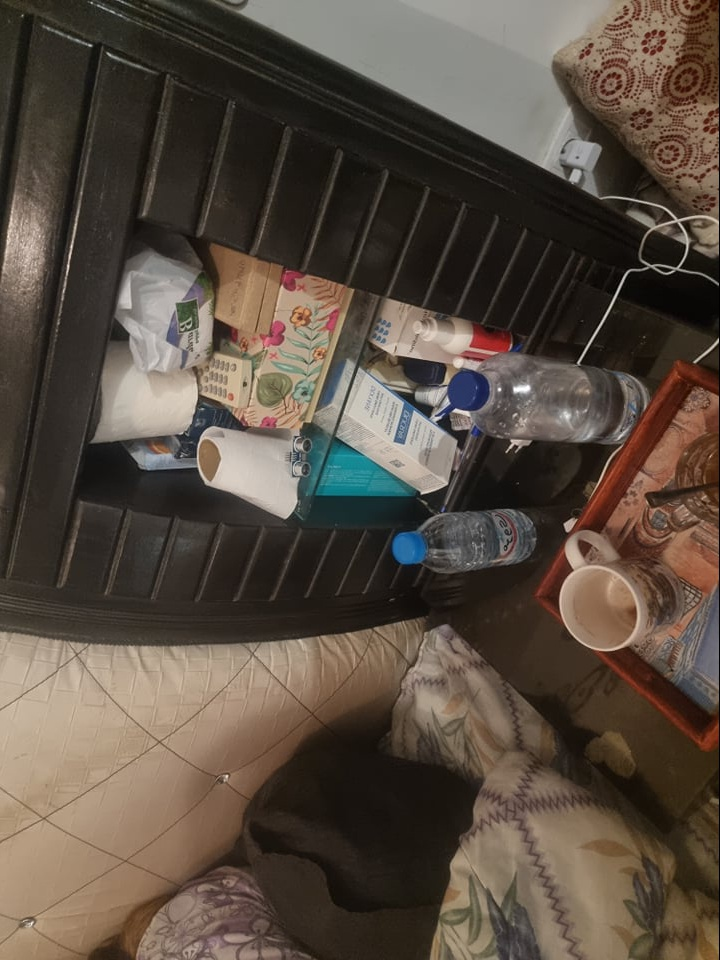SENSOR: (288, 434, 316, 479)
